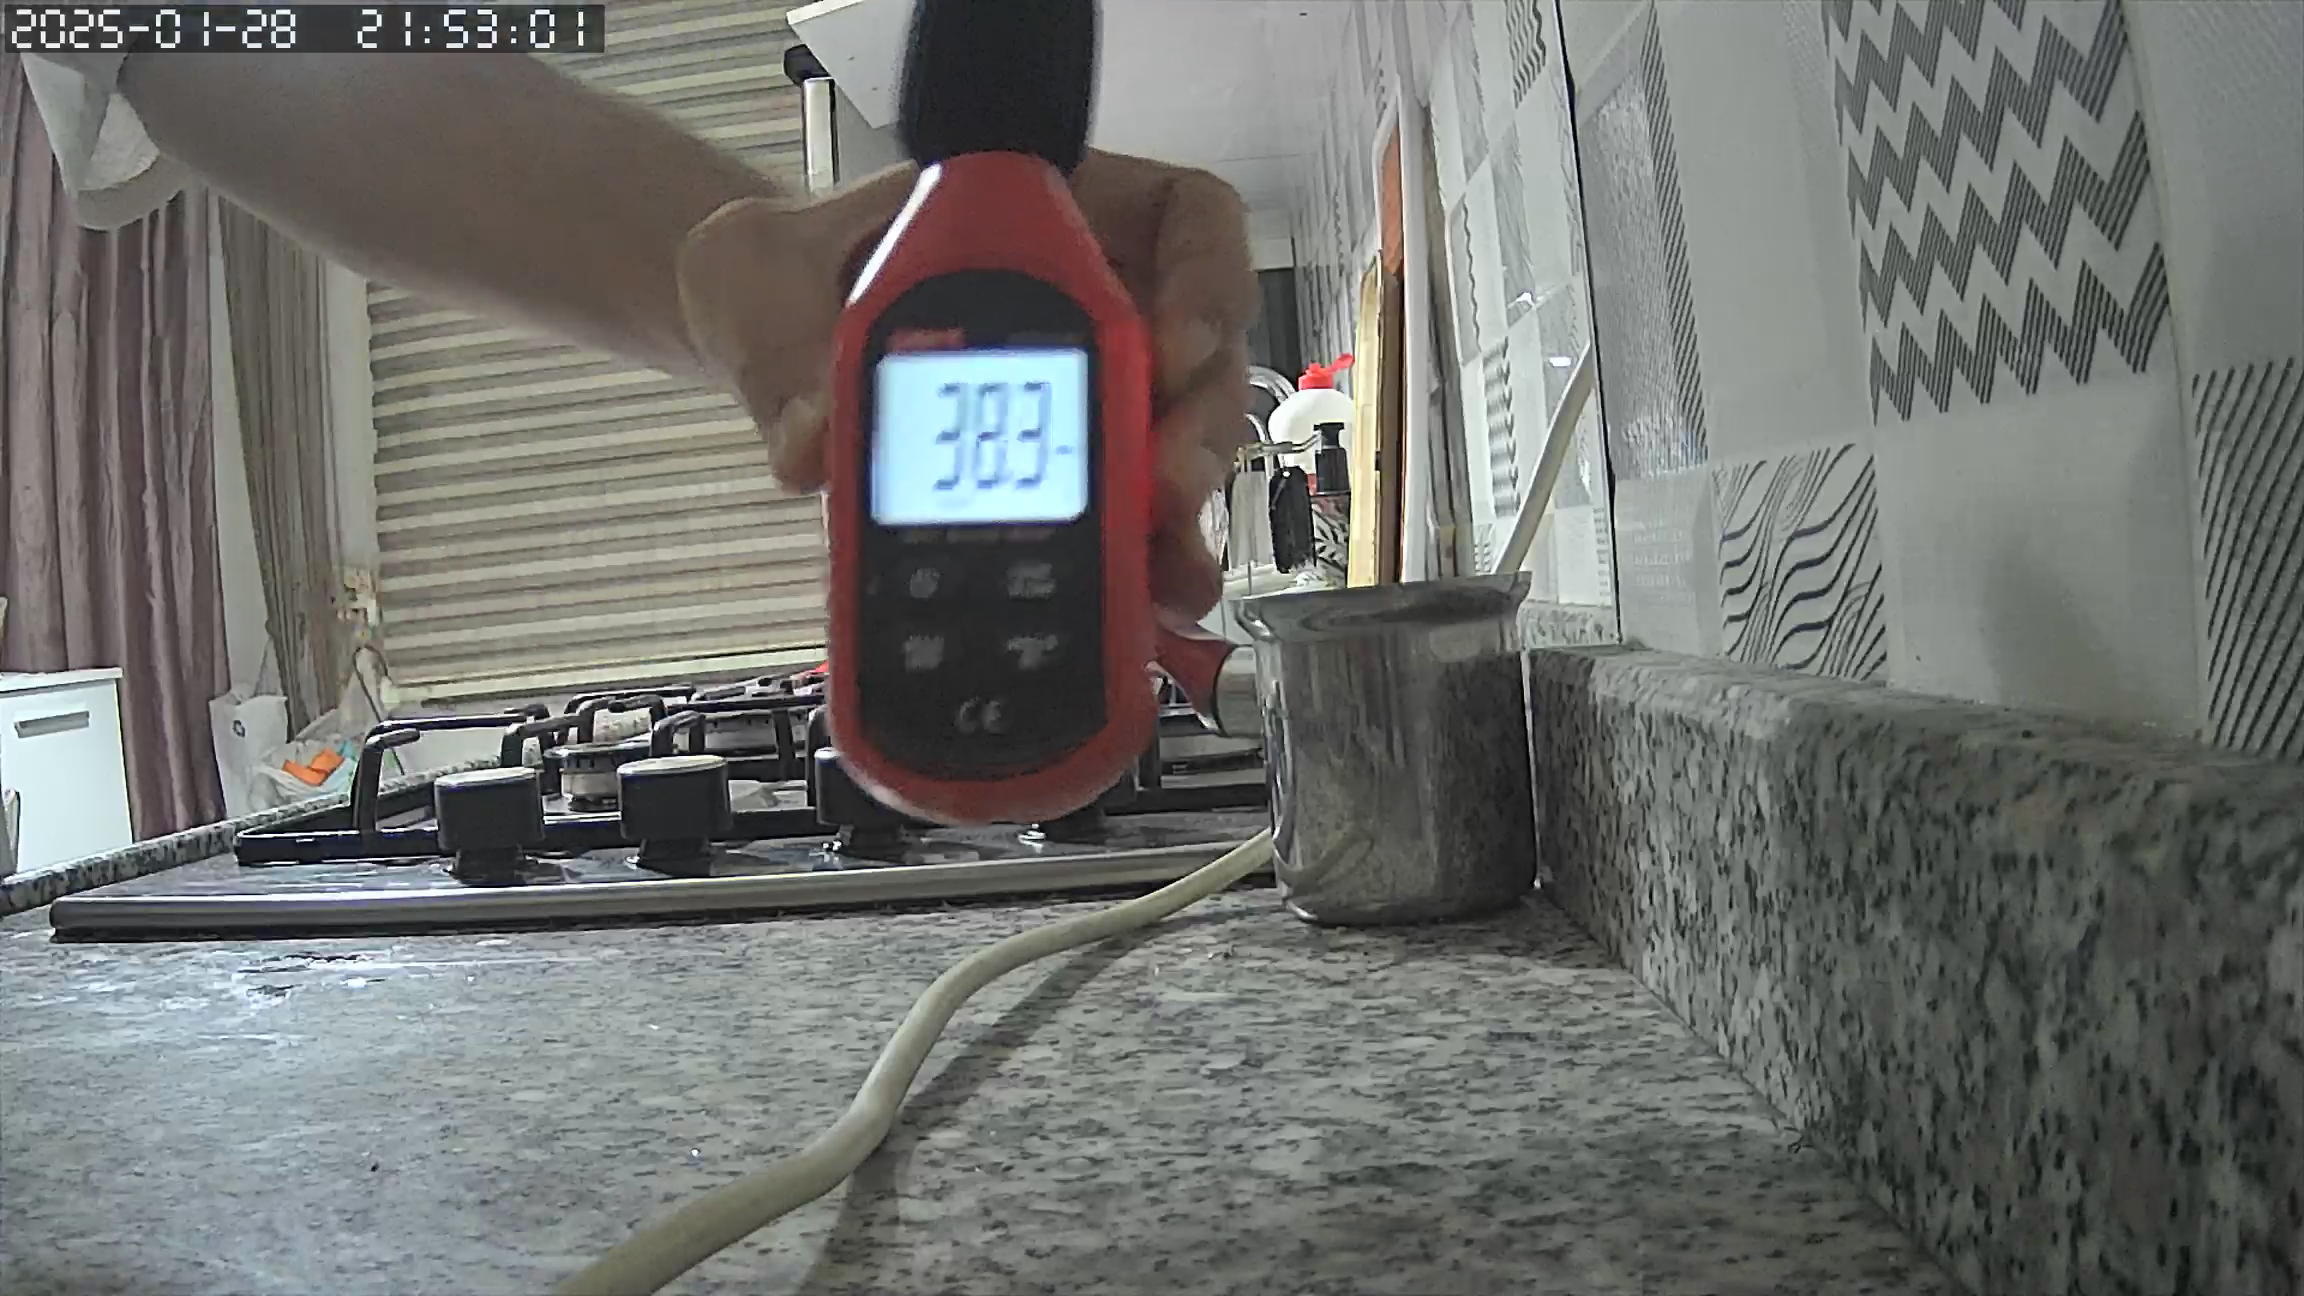screen: (873, 347, 1090, 524)
